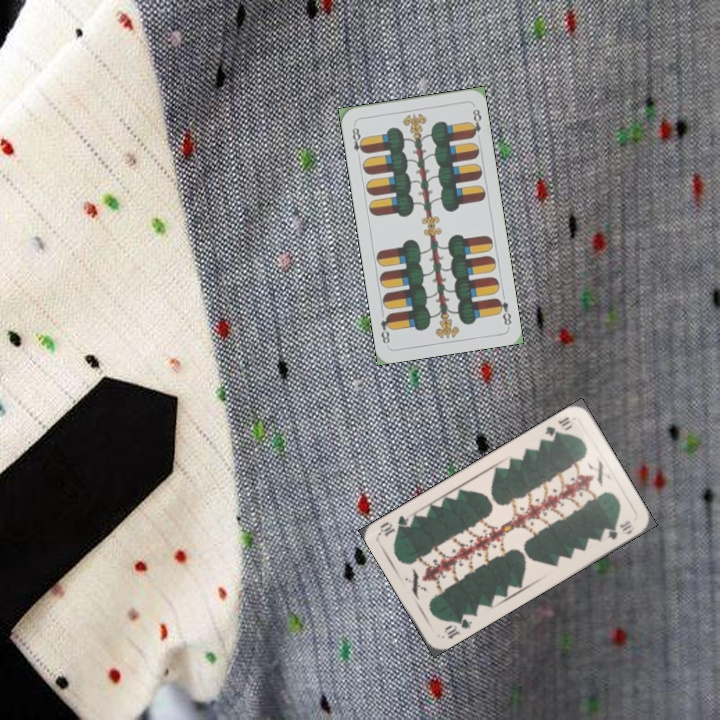E8: (348, 121, 368, 161), (492, 294, 514, 328)
G10: (440, 610, 475, 642), (541, 413, 573, 440)
